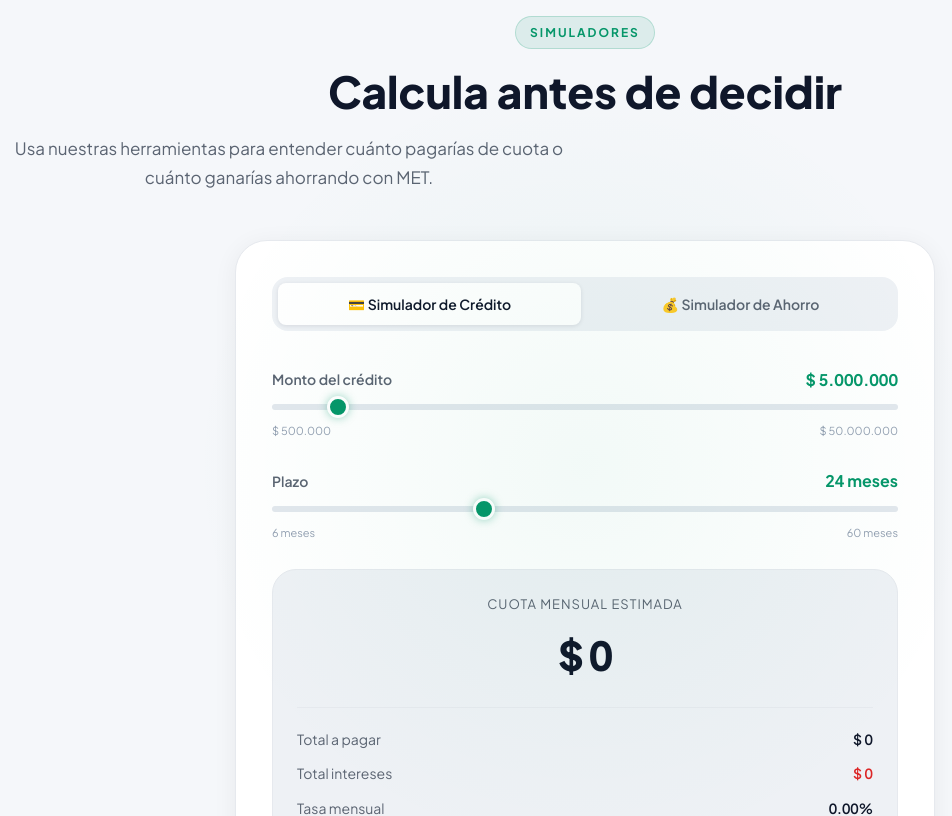
Test case: SimulatorSection › cada aporte de ahorro gana interés solo por los meses que lleva ahorrado
The image size is (952, 816).
Click the button "💰 Simulador de Ahorro" at (740, 304), box [589,283,892,325]
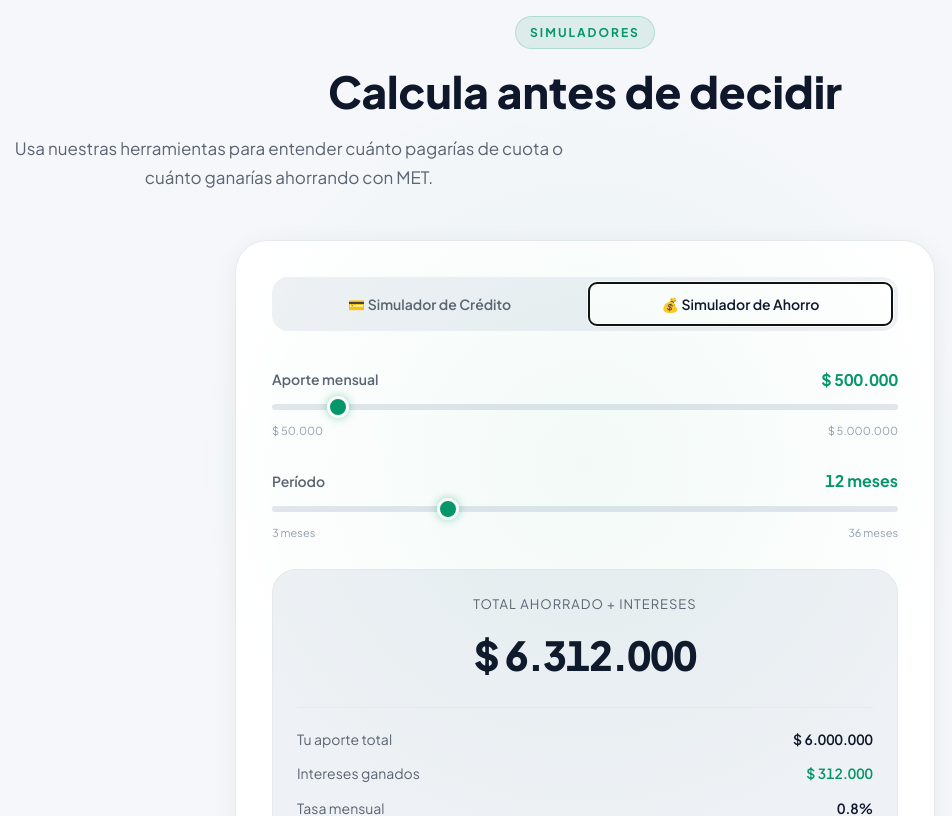
Check: the text "$ 312.000" is shown, box [806,762,873,785]
Check: the text "$ 6.312.000" is shown, box [474,623,696,687]
